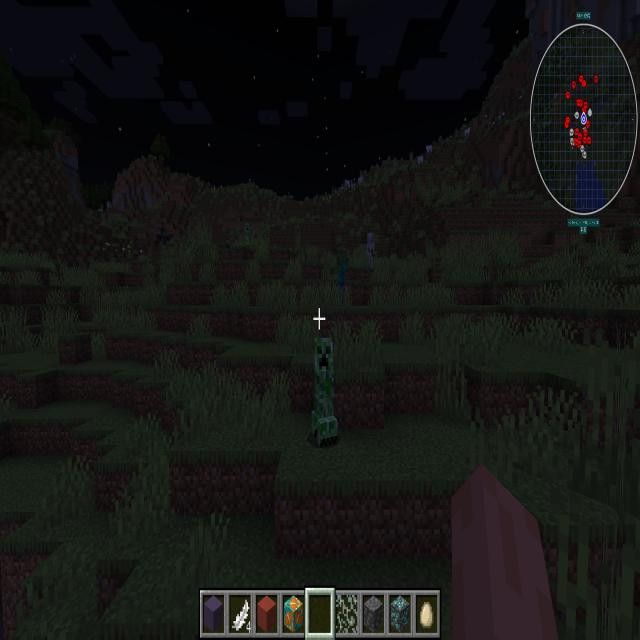Creeper: (307, 330, 342, 463), (243, 217, 253, 254)
Skeleton: (365, 227, 378, 273)
Zombie: (327, 243, 351, 306)
